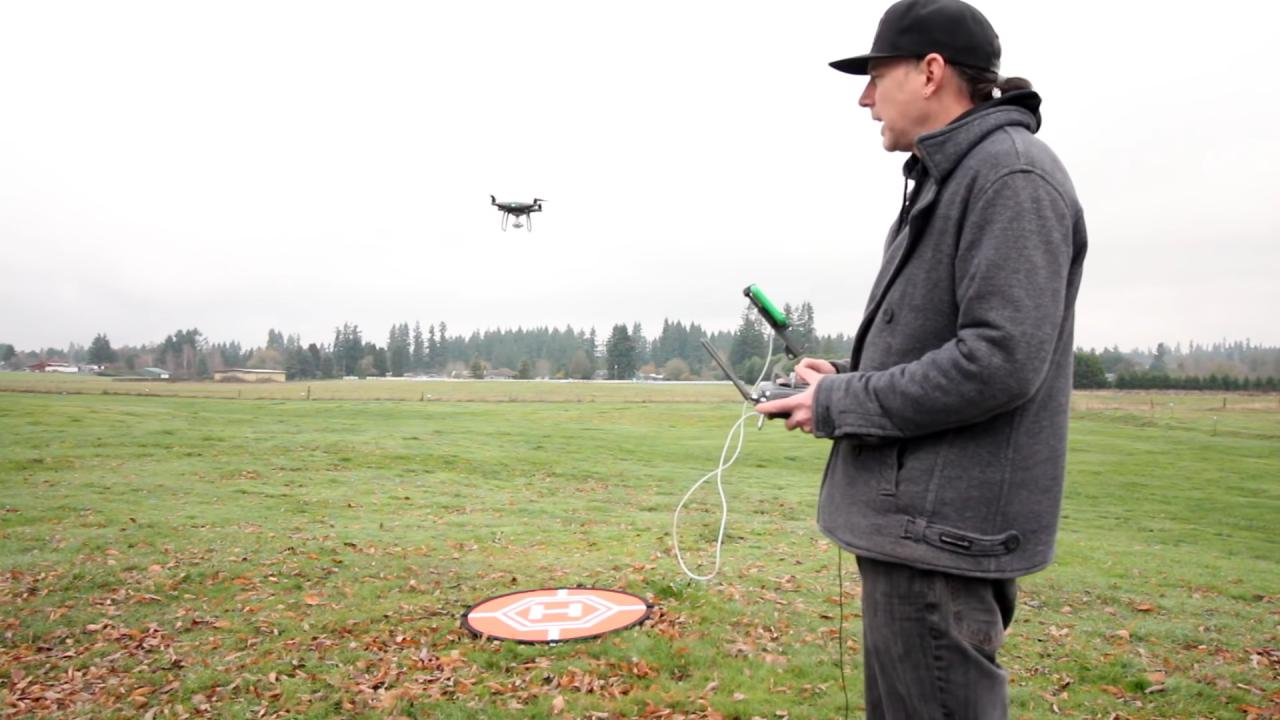Drone: (478, 188, 560, 238)
